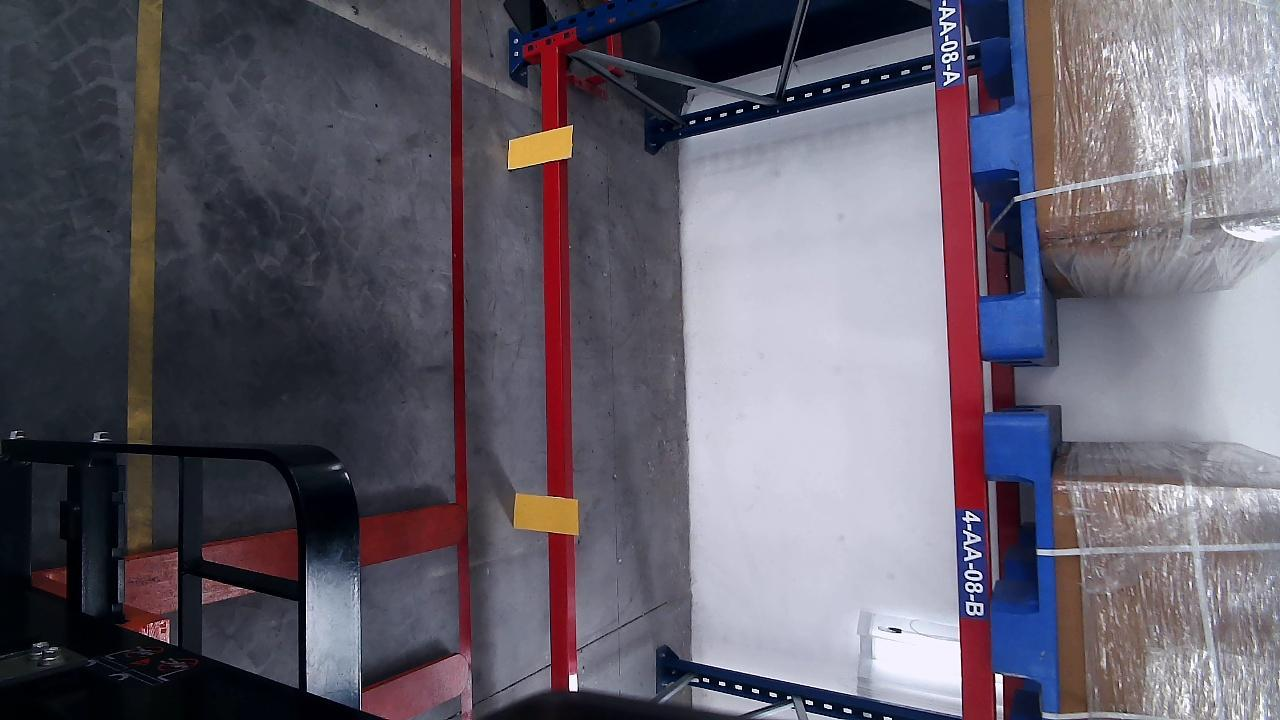h_rack: (926, 0, 997, 719), (540, 45, 569, 691)
orange_strip: (505, 122, 573, 170), (513, 492, 577, 533)
red_line: (449, 2, 477, 718)
small_pallet: (958, 0, 1048, 354), (982, 421, 1058, 720)
yellow_line: (127, 1, 167, 553)
